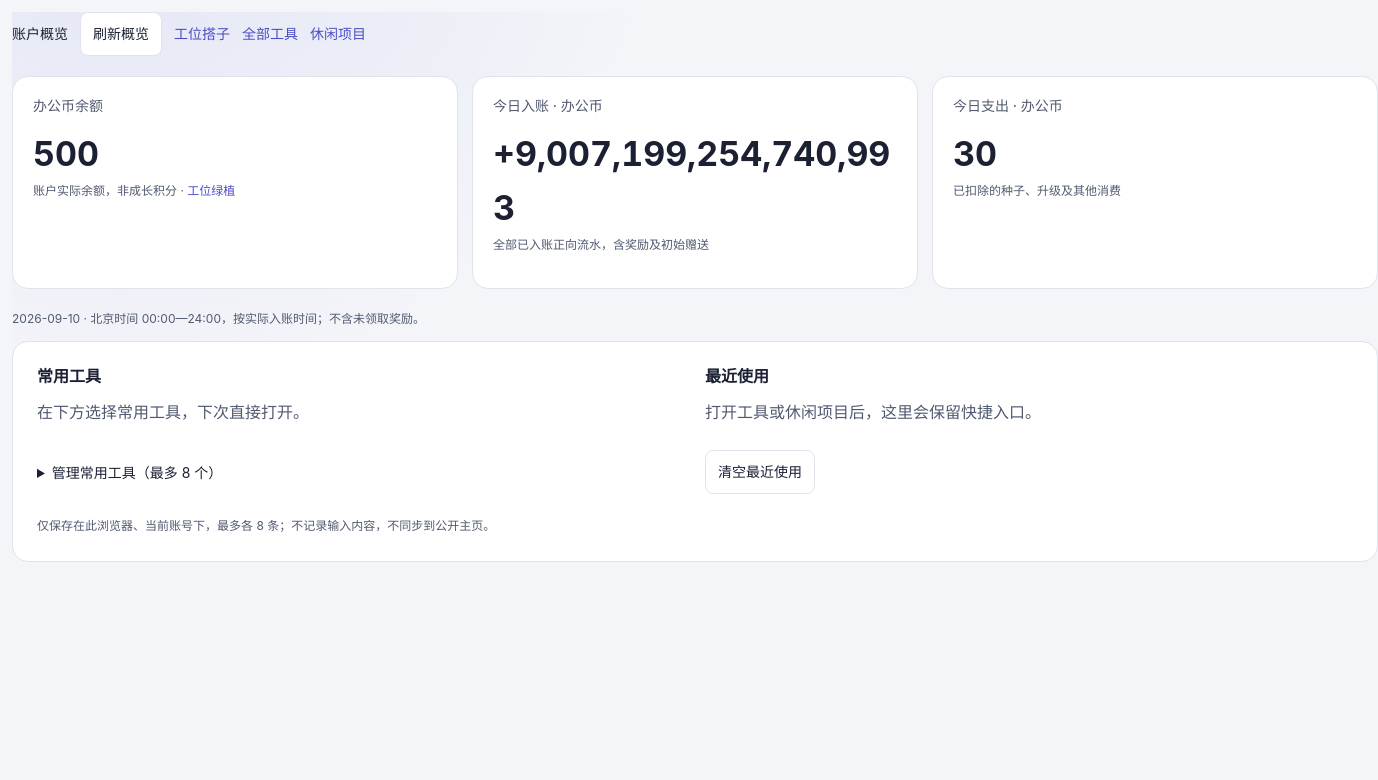
my workspace private summaries › shows actual positive/negative daily flows separately and never substitutes missing income with a zero
Expected: the text "+9,007,199,254,740,993" is shown, [493, 126, 897, 235]
Expected: the text "30" is shown, [953, 132, 997, 174]
Click the button "刷新概览" at (121, 34), box [80, 12, 162, 56]
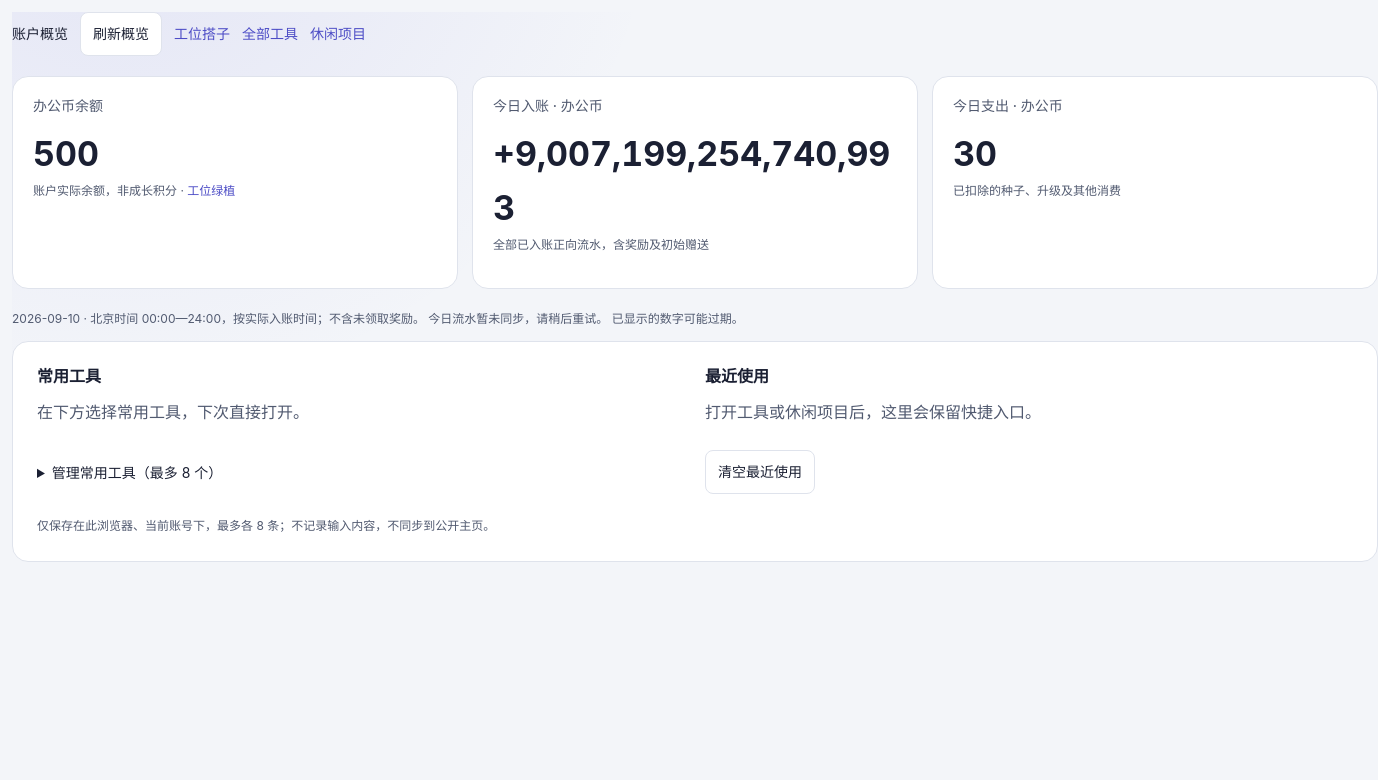
Expected: the text "+9,007,199,254,740,993" is shown, [493, 126, 897, 235]
Now the message shows "可能过期", box [608, 311, 744, 326]
